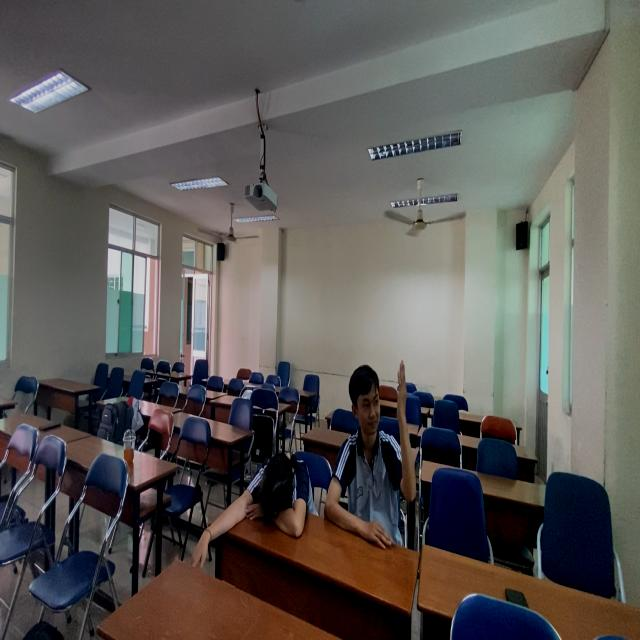raise_hand: (339, 359, 419, 535)
sleep: (203, 437, 323, 546)
